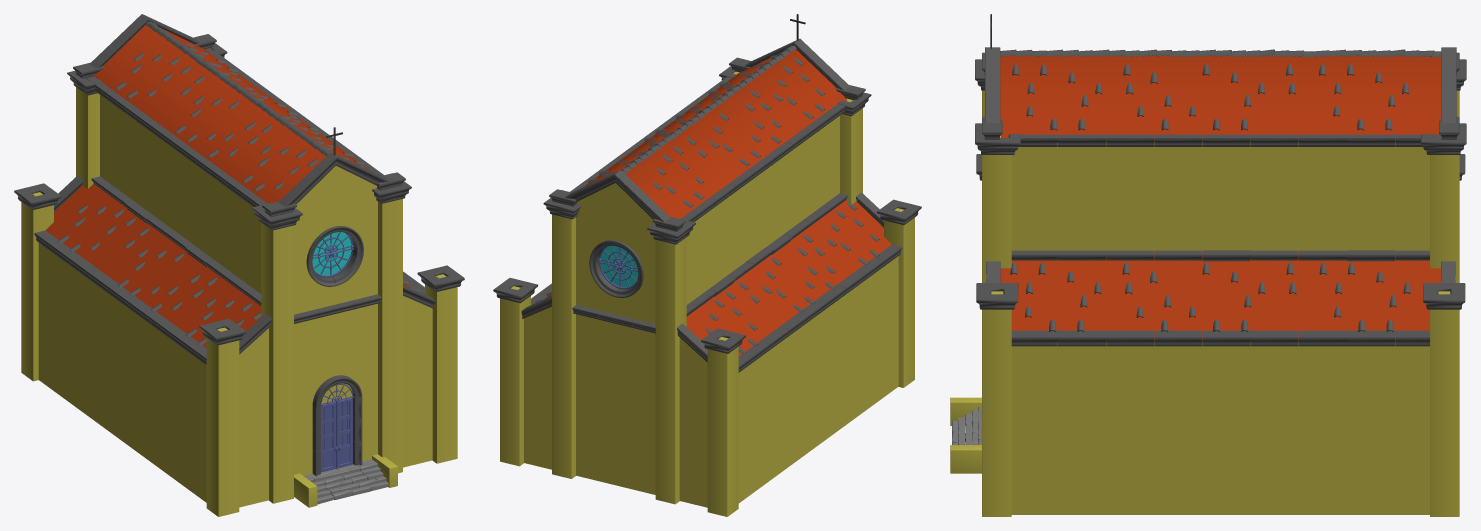
File: SM_church_italy.fbx
3 renders of one model, left to right at view 1: azimuth 30°, elevation 25°; view 2: azimuth 150°, elevation 25°; view 3: azimuth 270°, elevation 25°, orthographic. The views are drawn at different scales.
Visible parts, largest first — view 1: Cylinder424251; view 2: Cylinder424251; view 3: Cylinder424251.
Part boxes in pixels (box(x1,y1,x2,y2)): Cylinder424251: box(14, 14, 464, 516); Cylinder424251: box(493, 14, 921, 516); Cylinder424251: box(950, 14, 1466, 516).
Bounding box in the file's own units: 612 × 841 × 910.
